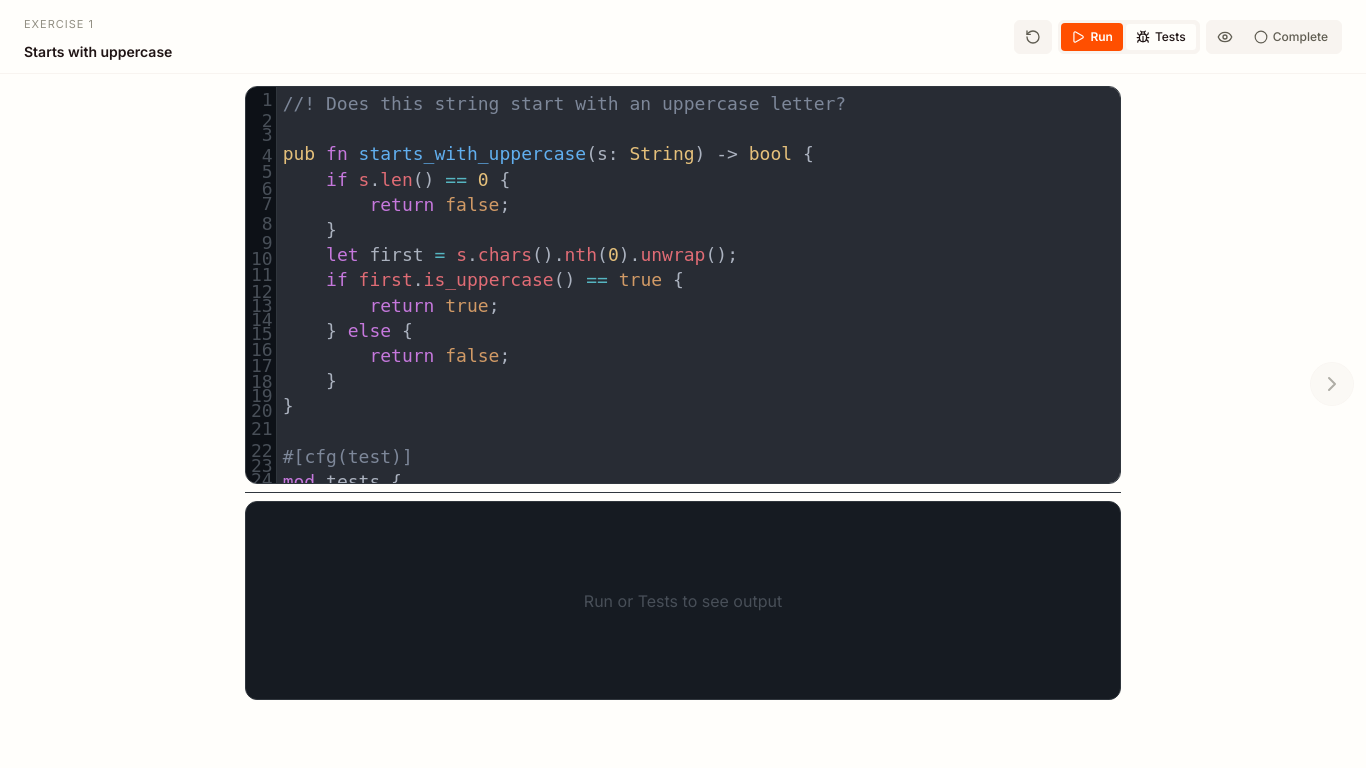
Scenario: ExerciseView › shows output from successful run
Click the button "Run".
click(1092, 36)  # box [1061, 22, 1123, 50]
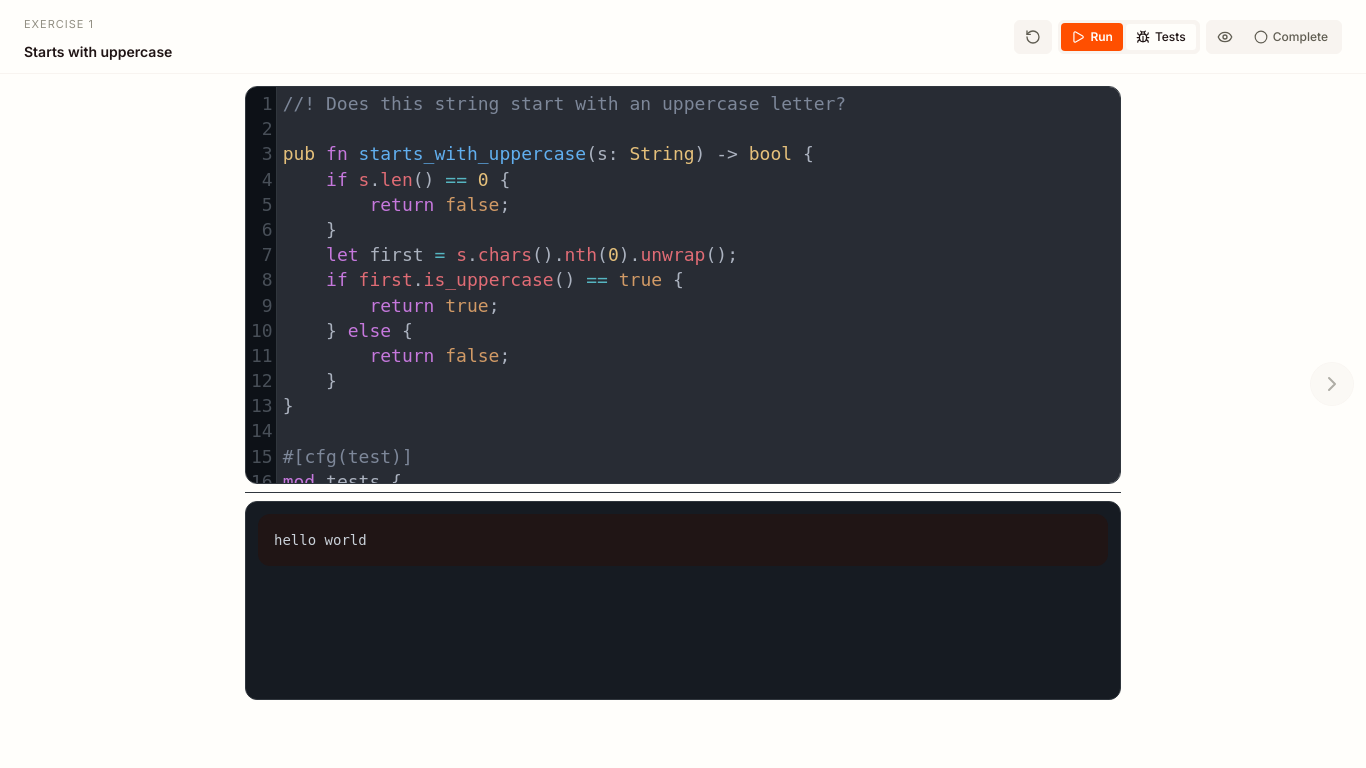
Check: the text "hello world" is shown, box [258, 514, 1108, 566]
